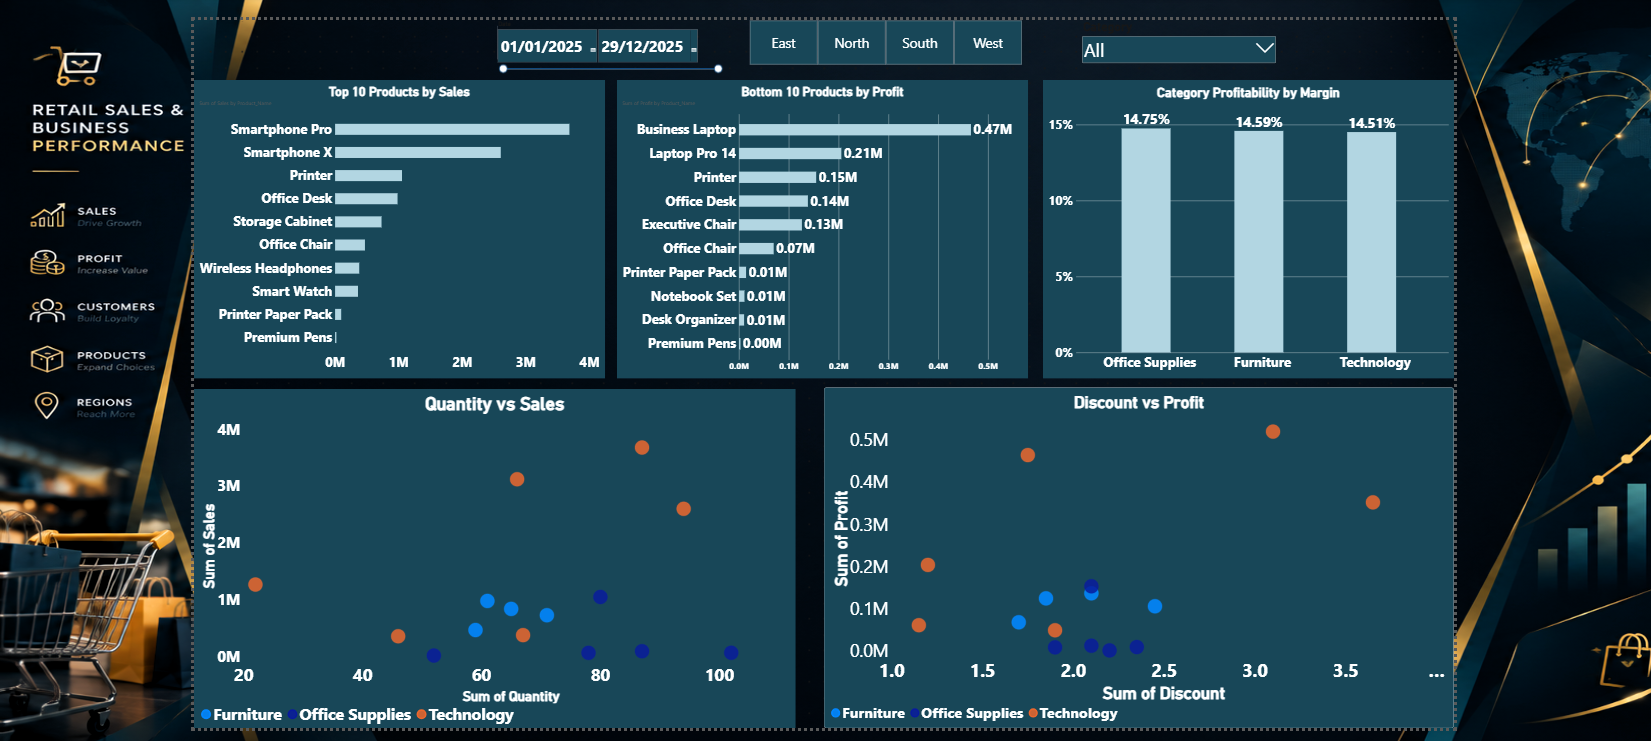

What the dashboard file says about the page in this screenshot:
{"tool":"powerbi","page":{"name":"Page 2","canvas":[3840,2160],"ordinal":1},"visuals":[{"type":"clusteredBarChart","title":"Top 10 Products by Sales","fields":{"Category":["Sales_Data.Product_Name"],"Y":["Sum(Sales_Data.Sales)"]},"box":[0,182.4,1252.4,909.5],"z":0},{"type":"clusteredBarChart","title":"Bottom 10 Products by Profit","fields":{"Category":["Sales_Data.Product_Name"],"Y":["Sum(Sales_Data.Profit)"]},"box":[1291.2,182.4,1252.4,909.5],"z":1},{"type":"columnChart","title":"Category Profitability by Margin","fields":{"Category":["Sales_Data.Category"],"Y":["Sales_Data.Profit Margin %"]},"box":[2587.2,182.4,1252.4,909.5],"z":2},{"type":"scatterChart","title":"Quantity vs Sales","fields":{"Category":["Sales_Data.Product_Name"],"Series":["Sales_Data.Category"],"X":["Sum(Sales_Data.Quantity)"],"Y":["Sum(Sales_Data.Sales)"]},"box":[0,1123.2,1833.3,1038.1],"z":3},{"type":"scatterChart","title":"Discount vs Profit","fields":{"Category":["Sales_Data.Product_Name"],"Series":["Sales_Data.Category"],"X":["Sum(Sales_Data.Discount)"],"Y":["Sum(Sales_Data.Profit)"]},"box":[1920,1118.4,1919,1038.1],"z":4},{"type":"slicer","fields":{"Values":["Sales_Data.Order_Date"]},"box":[892.8,0,724.8,278.4],"z":5},{"type":"slicer","fields":{"Values":["Sales_Data.Region"]},"box":[1636.8,0,556.8,182.4],"z":6},{"type":"slicer","fields":{"Values":["Sales_Data.Category"]},"box":[2702.4,0,600,360],"z":7}]}

Visuals, with their boxes on the page's 3840x2160 design canvas (x1, y1, x2, y2). These are canvas units, not pixel positions in the 1651x741 screenshot, which may show the page scaled, cropped or inside an application window:
"Top 10 Products by Sales" clusteredBarChart: detection(0, 182, 1252, 1092)
"Bottom 10 Products by Profit" clusteredBarChart: detection(1291, 182, 2544, 1092)
"Category Profitability by Margin" columnChart: detection(2587, 182, 3840, 1092)
"Quantity vs Sales" scatterChart: detection(0, 1123, 1833, 2161)
"Discount vs Profit" scatterChart: detection(1920, 1118, 3839, 2156)
slicer - Sales_Data.Order_Date: detection(893, 0, 1618, 278)
slicer - Sales_Data.Region: detection(1637, 0, 2194, 182)
slicer - Sales_Data.Category: detection(2702, 0, 3302, 360)
